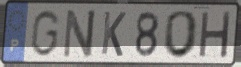8: (135, 10, 160, 59)
G: (28, 8, 62, 58)
H: (197, 10, 233, 60)
K: (99, 10, 128, 59)
N: (61, 7, 98, 60)
O: (162, 9, 201, 60)
